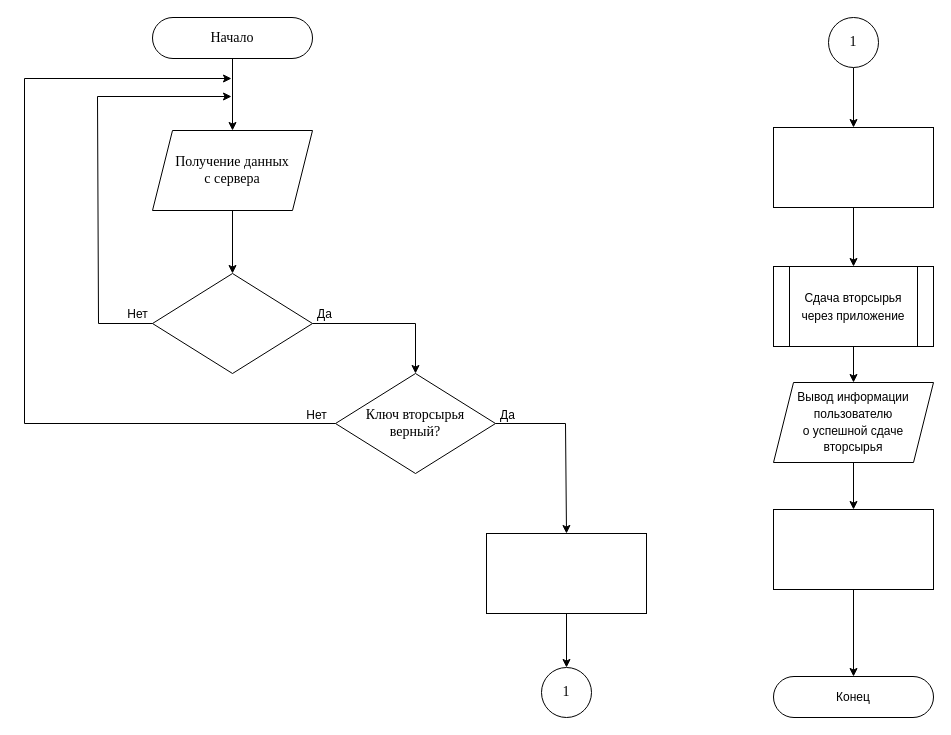
The diagram is 951 pixels wide and 735 high, and some of its shapes have lost their labels. The shapes that lost their labels are listed below. From the top down, each one's centre as x and y in pixels, then its label:
At [853,167]: "Получение баллов пользователя из базы данных".
At [232,323]: "Ключ пункта приема верный?".
At [853,549]: "Обновление баллов пользователя".
At [566,573]: "Получение вида вторсырья на основе ключа вторсырья".
